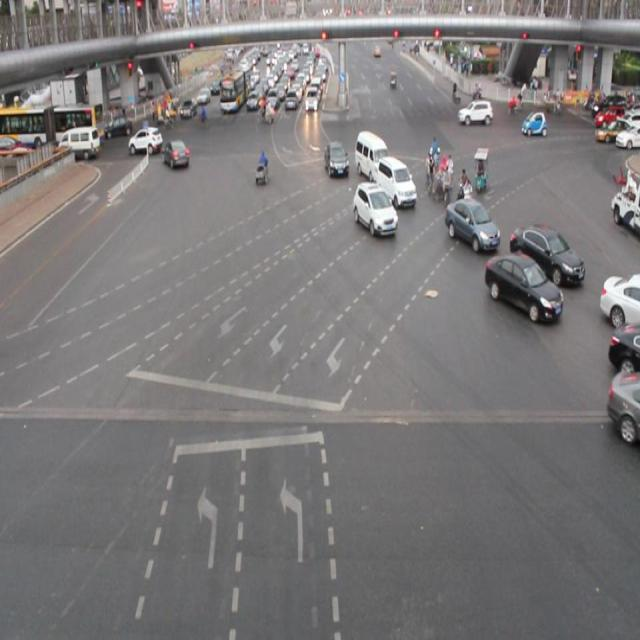car: (484, 252, 561, 320), (508, 223, 582, 285), (444, 197, 498, 252), (352, 181, 399, 235), (606, 371, 640, 442), (598, 270, 640, 327), (375, 156, 416, 208), (606, 321, 640, 372), (128, 126, 162, 156), (324, 140, 350, 179), (162, 139, 190, 170)
truck: (354, 130, 387, 182)
